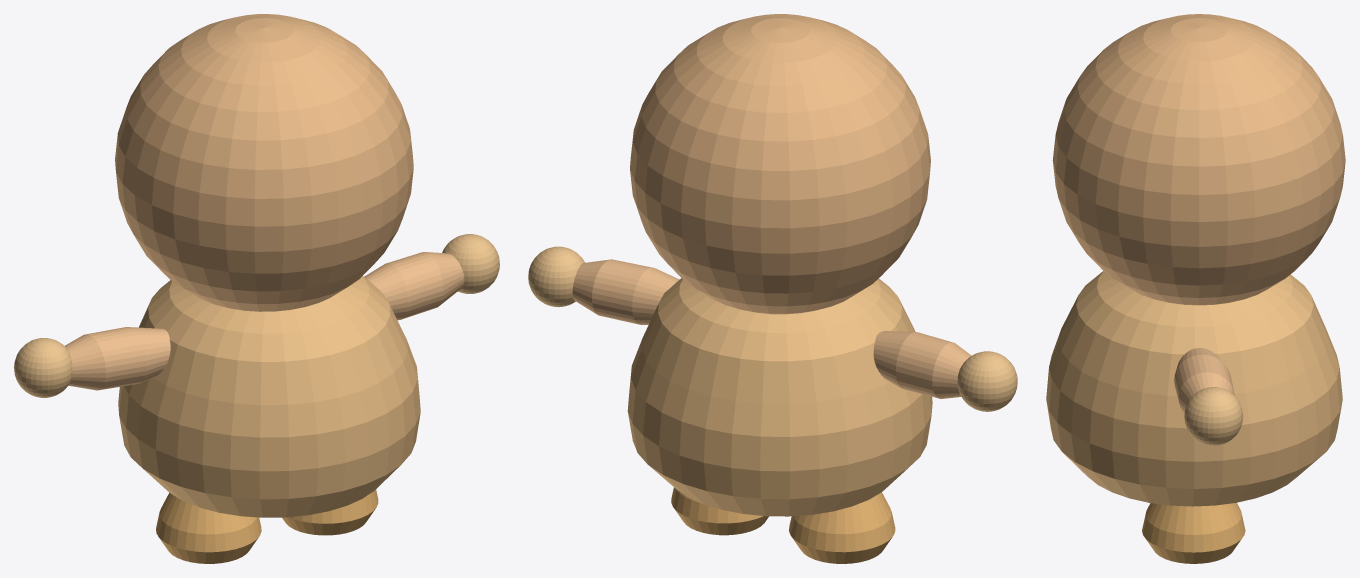
3 views of the same model, side by side, from view 1: azimuth 30°, elevation 25°; view 2: azimuth 150°, elevation 25°; view 3: azimuth 270°, elevation 25° (orthographic). The views are drawn at different scales.
Visible parts, largest first — view 1: 球, 円柱, 円柱.001, 円柱.002, 球.001; view 2: 球, 円柱, 円柱.001, 円柱.002, 球.001; view 3: 球, 円柱, 円柱.002, 球.001, 円柱.001.
Boxes of the visible parts, x1,y1,x2,y2 form: 球: (115, 14, 413, 311); 円柱: (118, 276, 420, 517); 円柱.001: (65, 252, 464, 390); 円柱.002: (156, 489, 378, 563); 球.001: (14, 234, 499, 397); 球: (630, 14, 930, 314); 円柱: (627, 278, 932, 516); 円柱.001: (572, 259, 971, 398); 円柱.002: (671, 487, 895, 563); 球.001: (528, 246, 1017, 411); 球: (1052, 14, 1345, 305); 円柱: (1046, 271, 1342, 506); 円柱.002: (1142, 502, 1245, 563); 球.001: (1184, 387, 1243, 445); 円柱.001: (1174, 348, 1234, 412).
Bounding box in the file's own units: 288 × 289 × 160.
